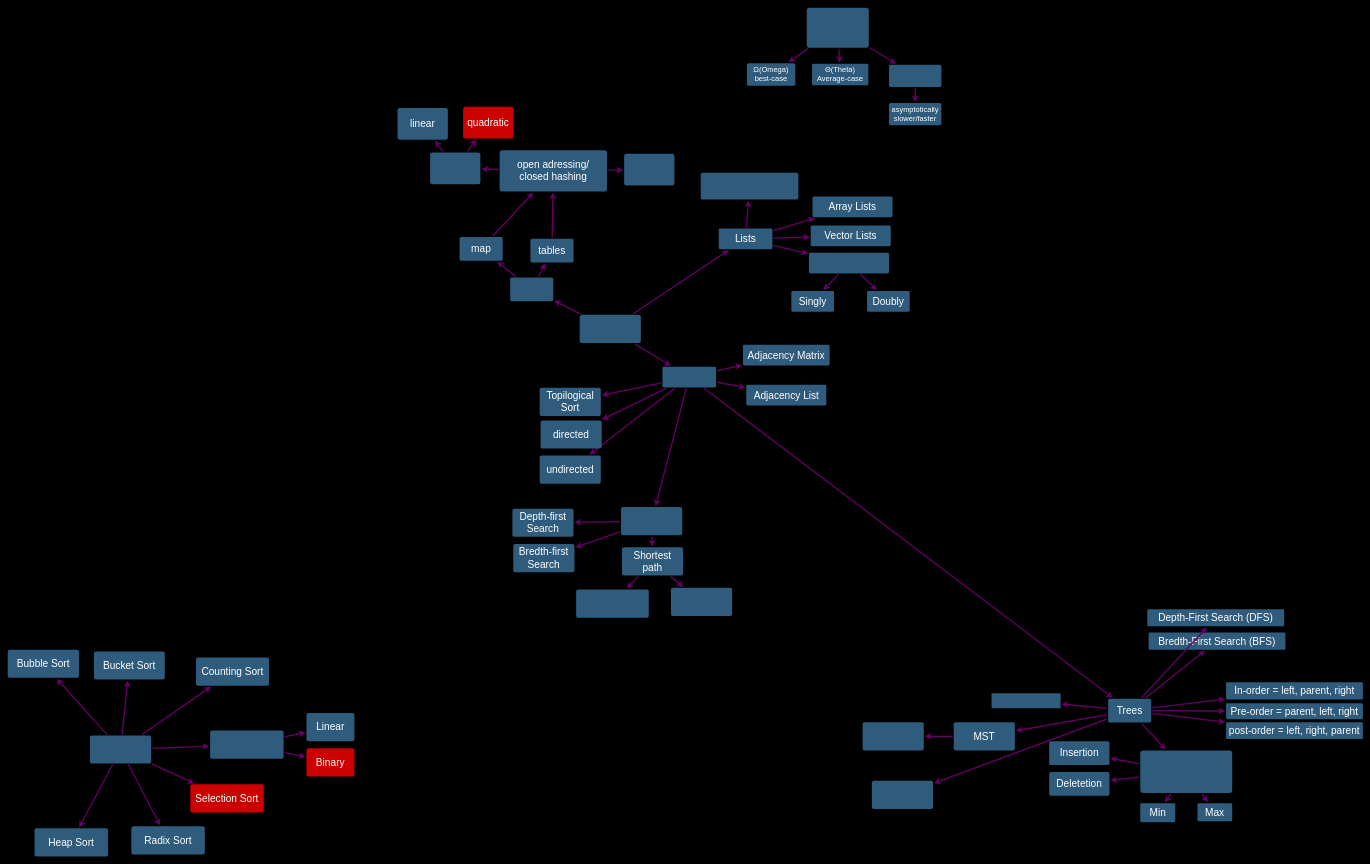
Some shapes in this 1370 by 864 pixel diagram are drawn without their labels. Each missing label, with the box of its shape:
Bellman Ford's algorithm: (576, 589, 649, 618)
Binary search: (991, 693, 1060, 708)
Data structures: (579, 315, 641, 343)
Dijkstra's algorithm: (671, 588, 732, 616)
double hashing: (624, 154, 674, 185)
Graph: (662, 367, 716, 387)
Hash: (510, 277, 553, 301)
Heap (left-balenced): (1140, 750, 1232, 793)
Insertion Sort: (210, 730, 283, 759)
Kruskal's algorithm: (872, 781, 933, 809)
Linked List: (809, 253, 889, 273)
O(big-Oh) worst-case: (889, 64, 941, 87)
Prim's algorithm: (862, 722, 924, 750)
probing: (430, 152, 480, 184)
Singelton element (empty list): (700, 172, 798, 199)
Sorting Algorithm: (90, 735, 151, 763)
Time complexity/ Notations: (807, 7, 869, 48)
Traversal: (621, 507, 682, 535)
